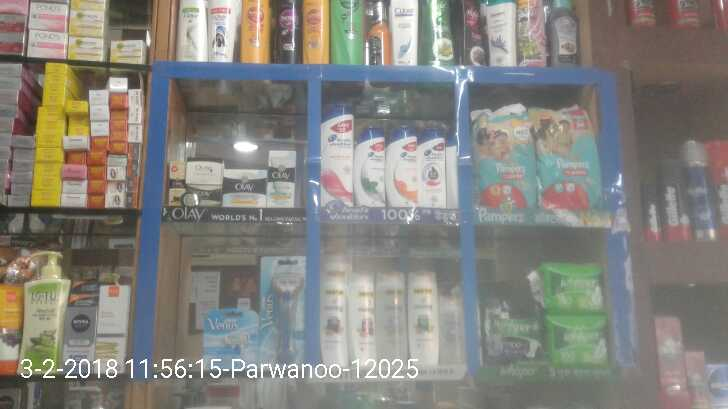gillete: (687, 140, 710, 240), (659, 157, 686, 239), (709, 127, 727, 241), (642, 184, 659, 239)
venus: (259, 257, 307, 367), (204, 311, 258, 367)
